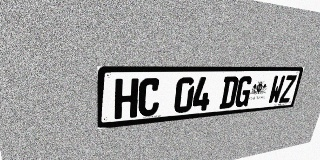0: (173, 77, 196, 114)
4: (191, 77, 213, 112)
C: (137, 78, 161, 117)
D: (219, 76, 239, 109)
G: (234, 76, 254, 107)
H: (114, 78, 139, 119)
W: (267, 75, 286, 104)
Z: (279, 75, 297, 103)
